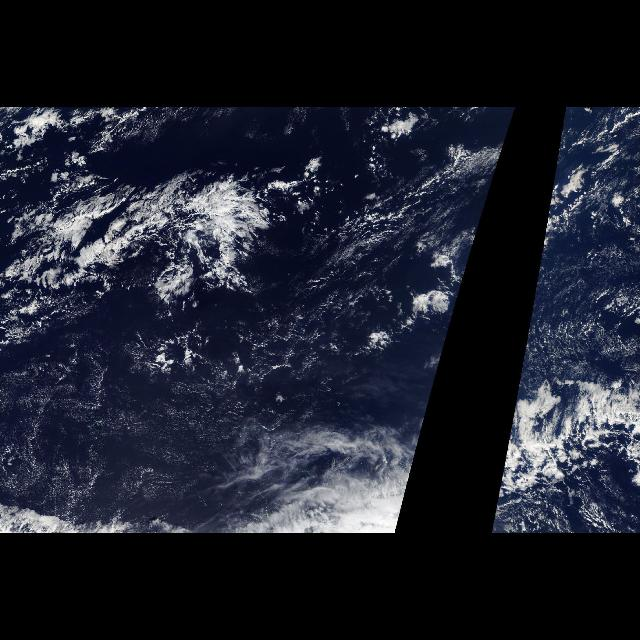Sugar: (1, 357, 282, 518), (520, 255, 640, 400)
